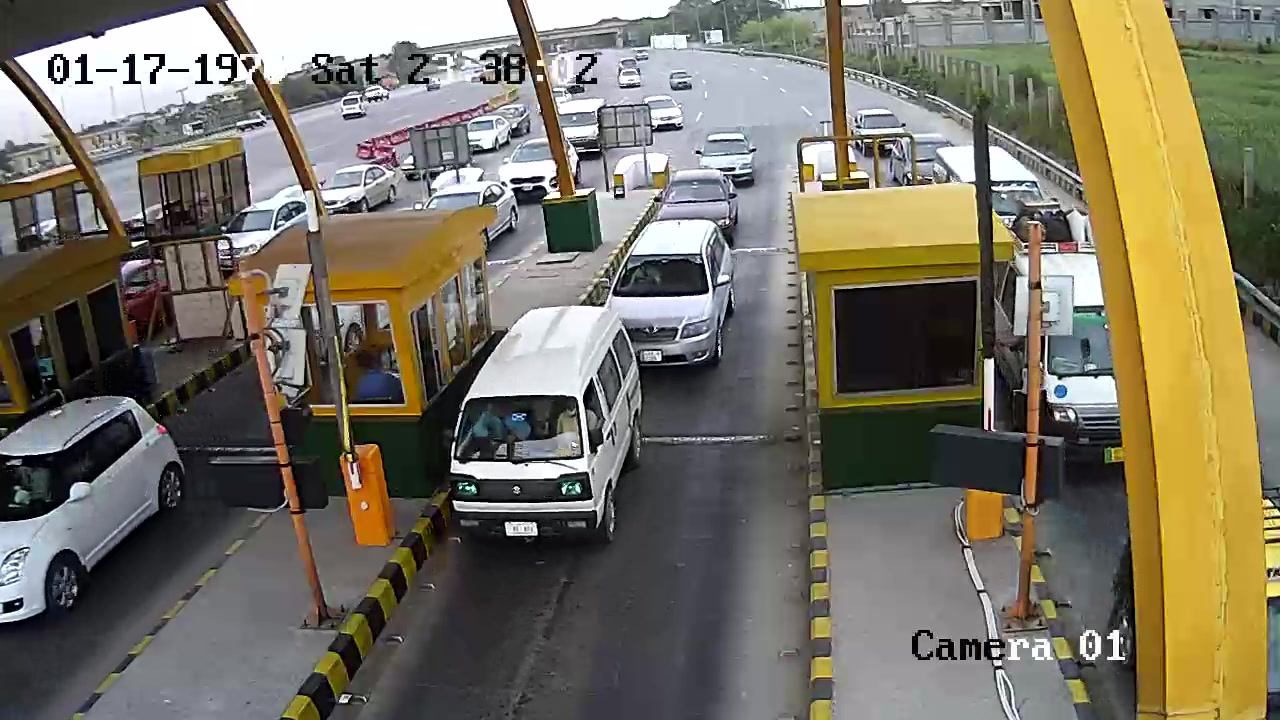F1: (443, 304, 643, 564)
